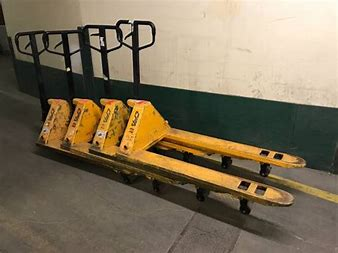Pallet Jack: (115, 18, 306, 215)
